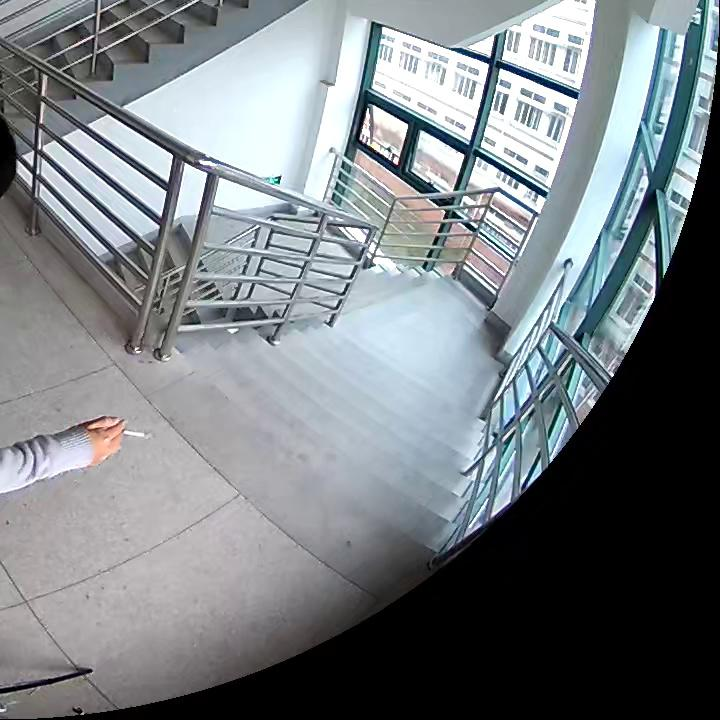handsmoke: (85, 416, 153, 469)
